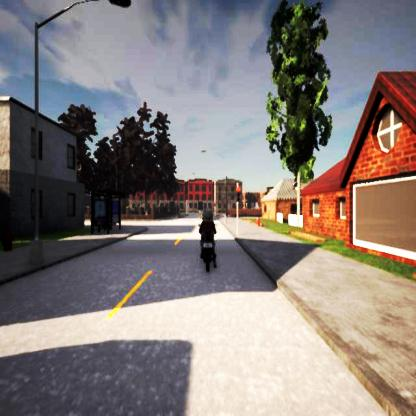motobike: (199, 211, 217, 272)
